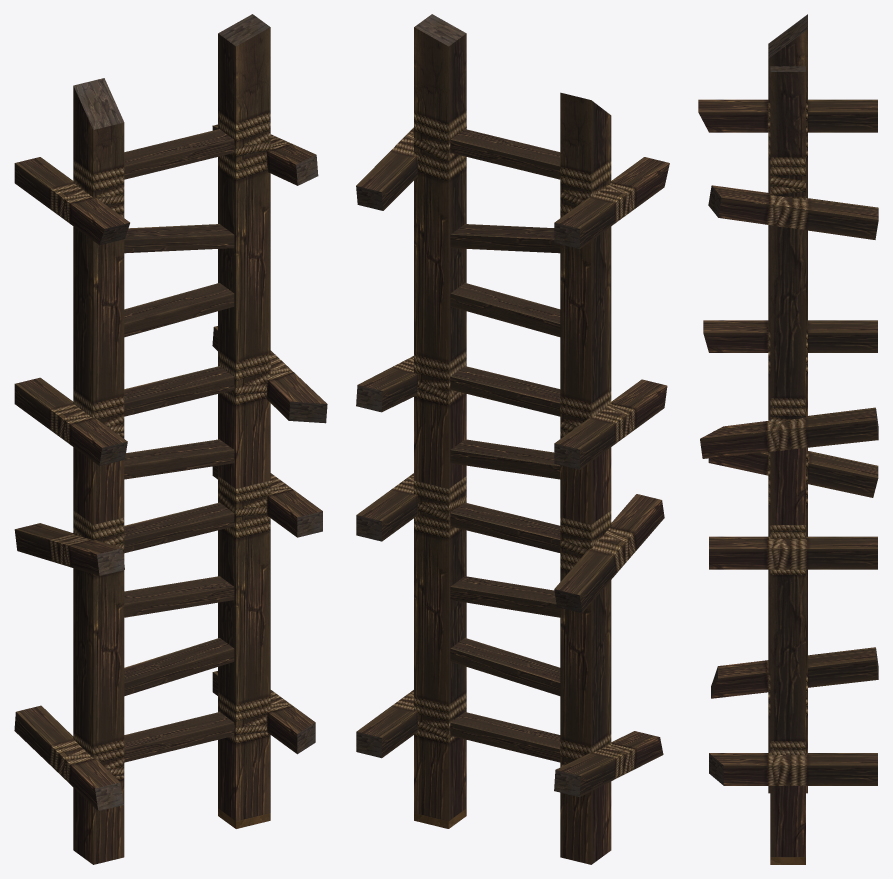
File: A_mutou_014.fbx
3 renders of one model, left to right at view 1: azimuth 30°, elevation 25°; view 2: azimuth 150°, elevation 25°; view 3: azimuth 270°, elevation 25°, orthographic.
Visible parts, largest first — view 1: pasted__A_mutou_014; view 2: pasted__A_mutou_014; view 3: pasted__A_mutou_014.
Boxes of the visible parts, x1,y1,x2,y2 form: pasted__A_mutou_014: (14, 14, 327, 864); pasted__A_mutou_014: (356, 14, 669, 864); pasted__A_mutou_014: (698, 14, 878, 864).
Size of the model in its own units: 175 by 595 by 123.
